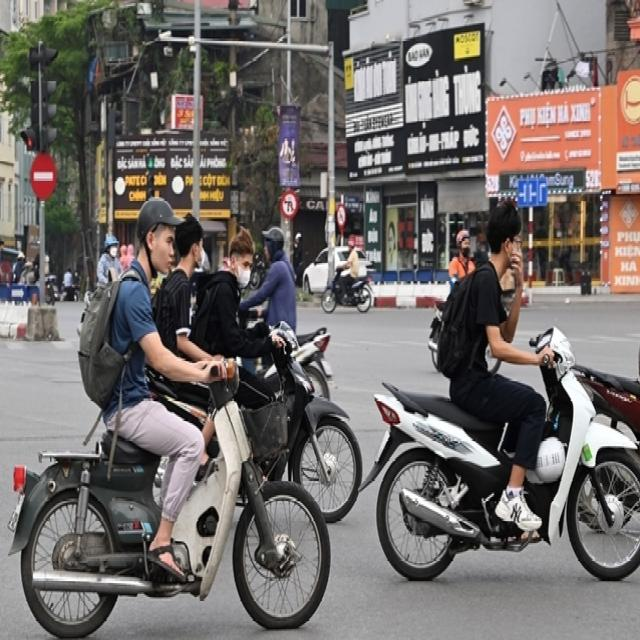1-2-helmet: (136, 196, 186, 241)
Face and Hair: (483, 197, 525, 272)
